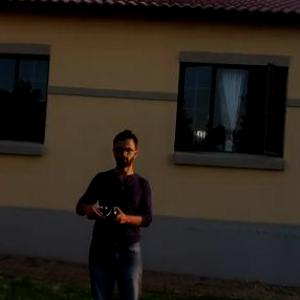follow: (66, 122, 160, 299)
